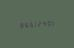eight: (17, 21, 21, 29)
four: (42, 19, 46, 27)
one: (32, 20, 36, 28), (52, 18, 56, 26)
six: (27, 20, 31, 28), (22, 21, 26, 28)
two: (37, 19, 41, 27)
zero: (47, 19, 51, 26)
